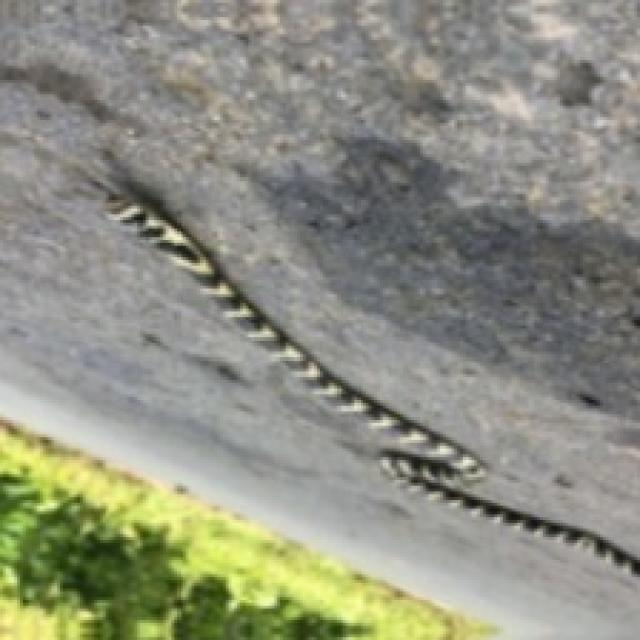king cobra: (0, 0, 637, 637), (117, 143, 637, 563), (100, 189, 220, 289)
